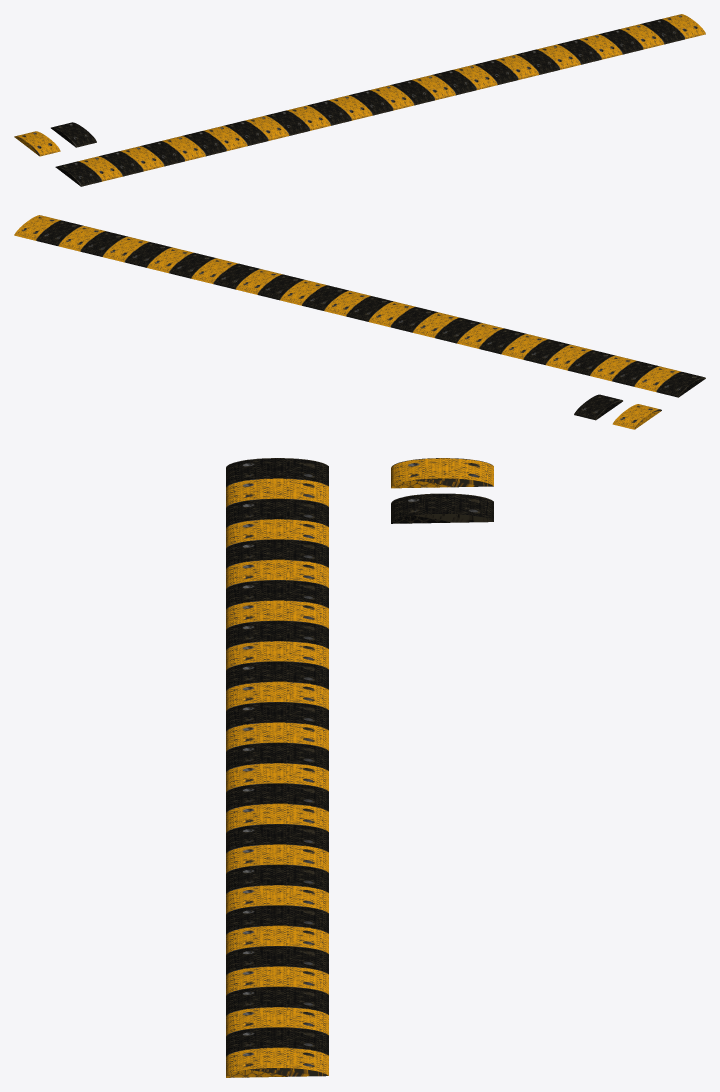
File: speed_bump_bump_the_traffic_avenue_13mb.glb
The picture shows the model from 3 angles, top to bottom: view 1: azimuth 30°, elevation 25°; view 2: azimuth 150°, elevation 25°; view 3: azimuth 270°, elevation 25°; orthographic projection. The views are drawn at different scales.
Visible parts, largest first — view 1: Cloner, 02_02_0, 01_01_0; view 2: Cloner, 01_01_0, 02_02_0; view 3: Cloner, 02_02_0, 01_01_0.
Part boxes in pixels (left/top/right/bottom): Cloner: left=55, top=14, right=705, bottom=186; 02_02_0: left=51, top=122, right=96, bottom=147; 01_01_0: left=14, top=131, right=60, bottom=156; Cloner: left=14, top=215, right=705, bottom=397; 01_01_0: left=612, top=404, right=661, bottom=429; 02_02_0: left=574, top=394, right=622, bottom=420; Cloner: left=226, top=458, right=328, bottom=1077; 02_02_0: left=391, top=493, right=493, bottom=523; 01_01_0: left=391, top=458, right=493, bottom=488.
Bounding box in the file's own units: 13.2 × 0.1 × 2.45.
2 materials, 2 textured.
